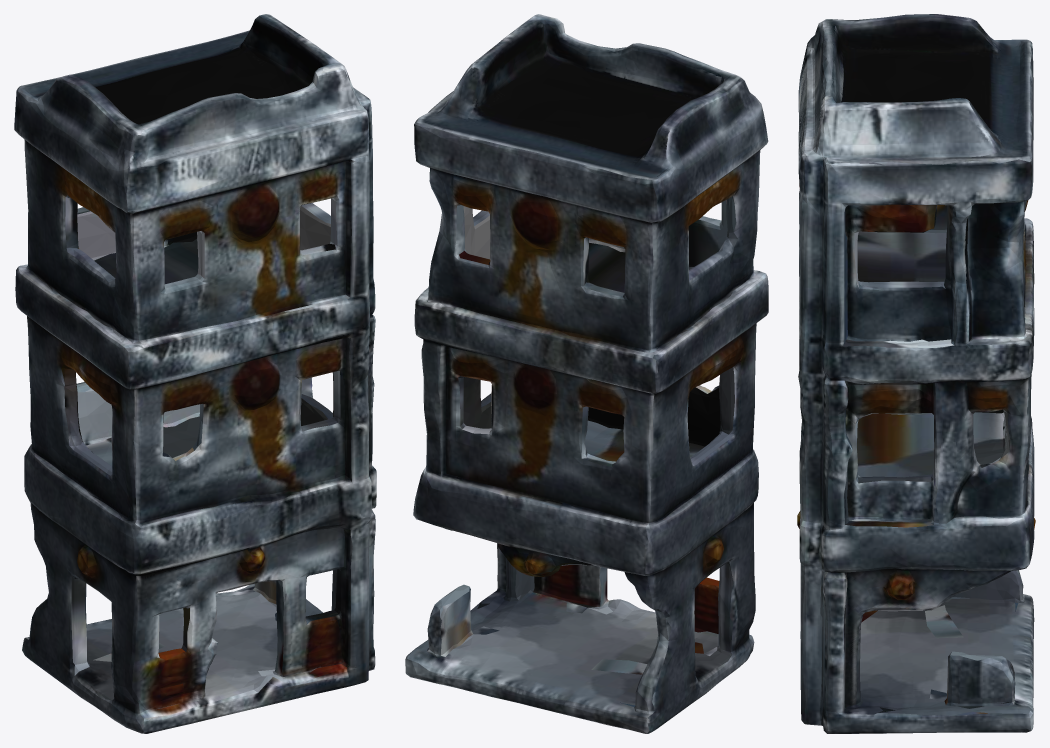
File: ruin-tall.glb
3 renders of one model, left to right at view 1: azimuth 30°, elevation 25°; view 2: azimuth 150°, elevation 25°; view 3: azimuth 270°, elevation 25°, orthographic. The views are drawn at different scales.
Parts seen in each view (by area): view 1: tmpwj0xgdz0.ply; view 2: tmpwj0xgdz0.ply; view 3: tmpwj0xgdz0.ply.
Boxes of the visible parts, x1,y1,x2,y2 form: tmpwj0xgdz0.ply: (14,14,376,733); tmpwj0xgdz0.ply: (405,14,768,733); tmpwj0xgdz0.ply: (797,14,1035,733).
Size of the model in its own units: 1 by 2.23 by 0.7822.
Materials: 1 (1 with a texture image).
